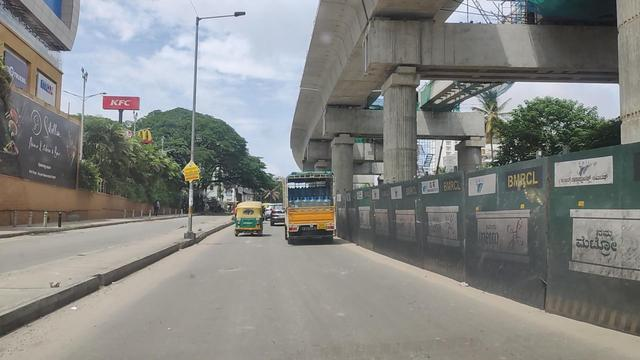HMV: (281, 171, 343, 251)
LMV: (232, 201, 264, 238)
